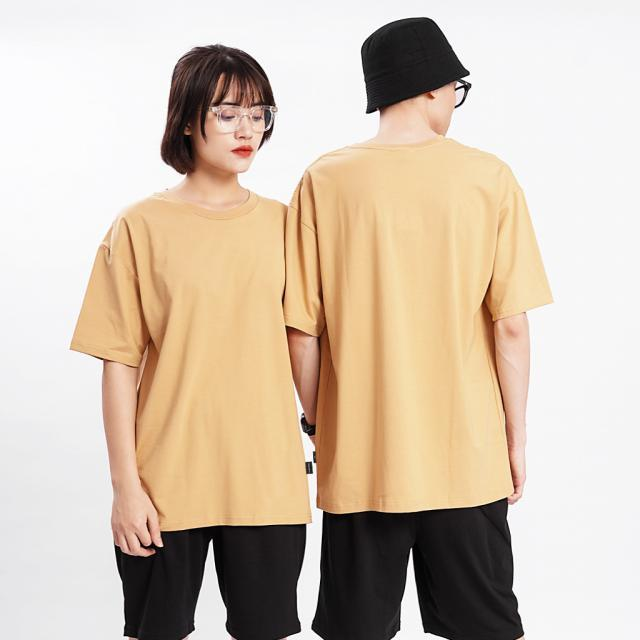Shirt: (274, 136, 555, 515), (74, 178, 317, 534)
